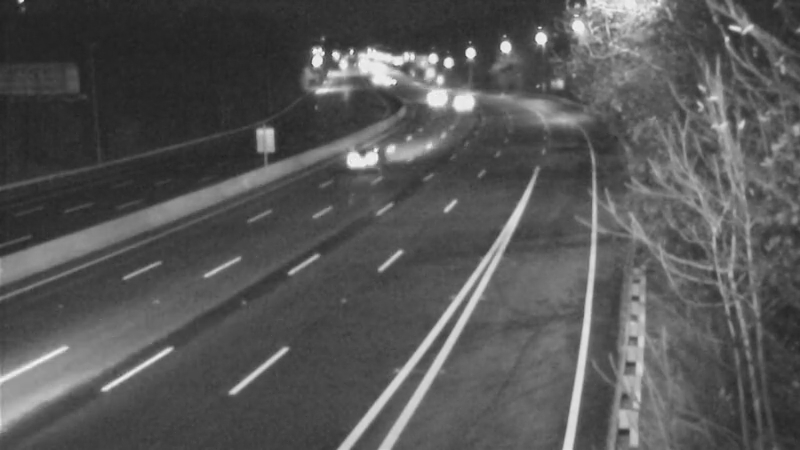vehicle: (327, 114, 407, 194), (410, 75, 460, 125), (436, 70, 486, 120)
